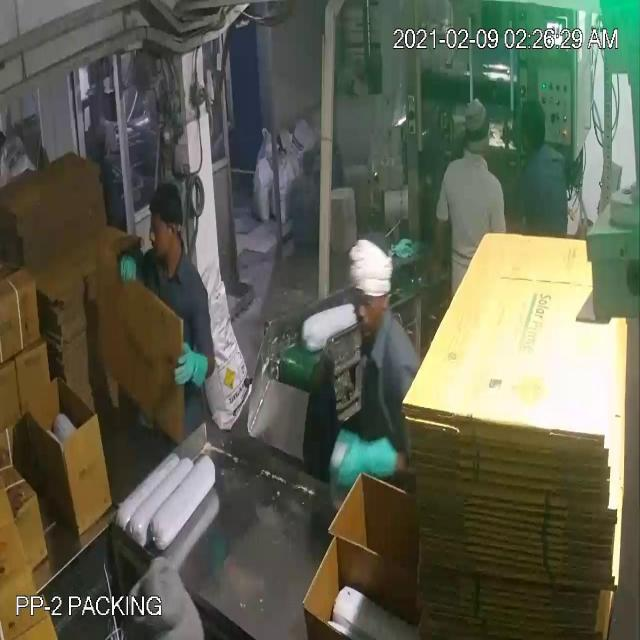Gloves: (31, 48, 364, 460)
